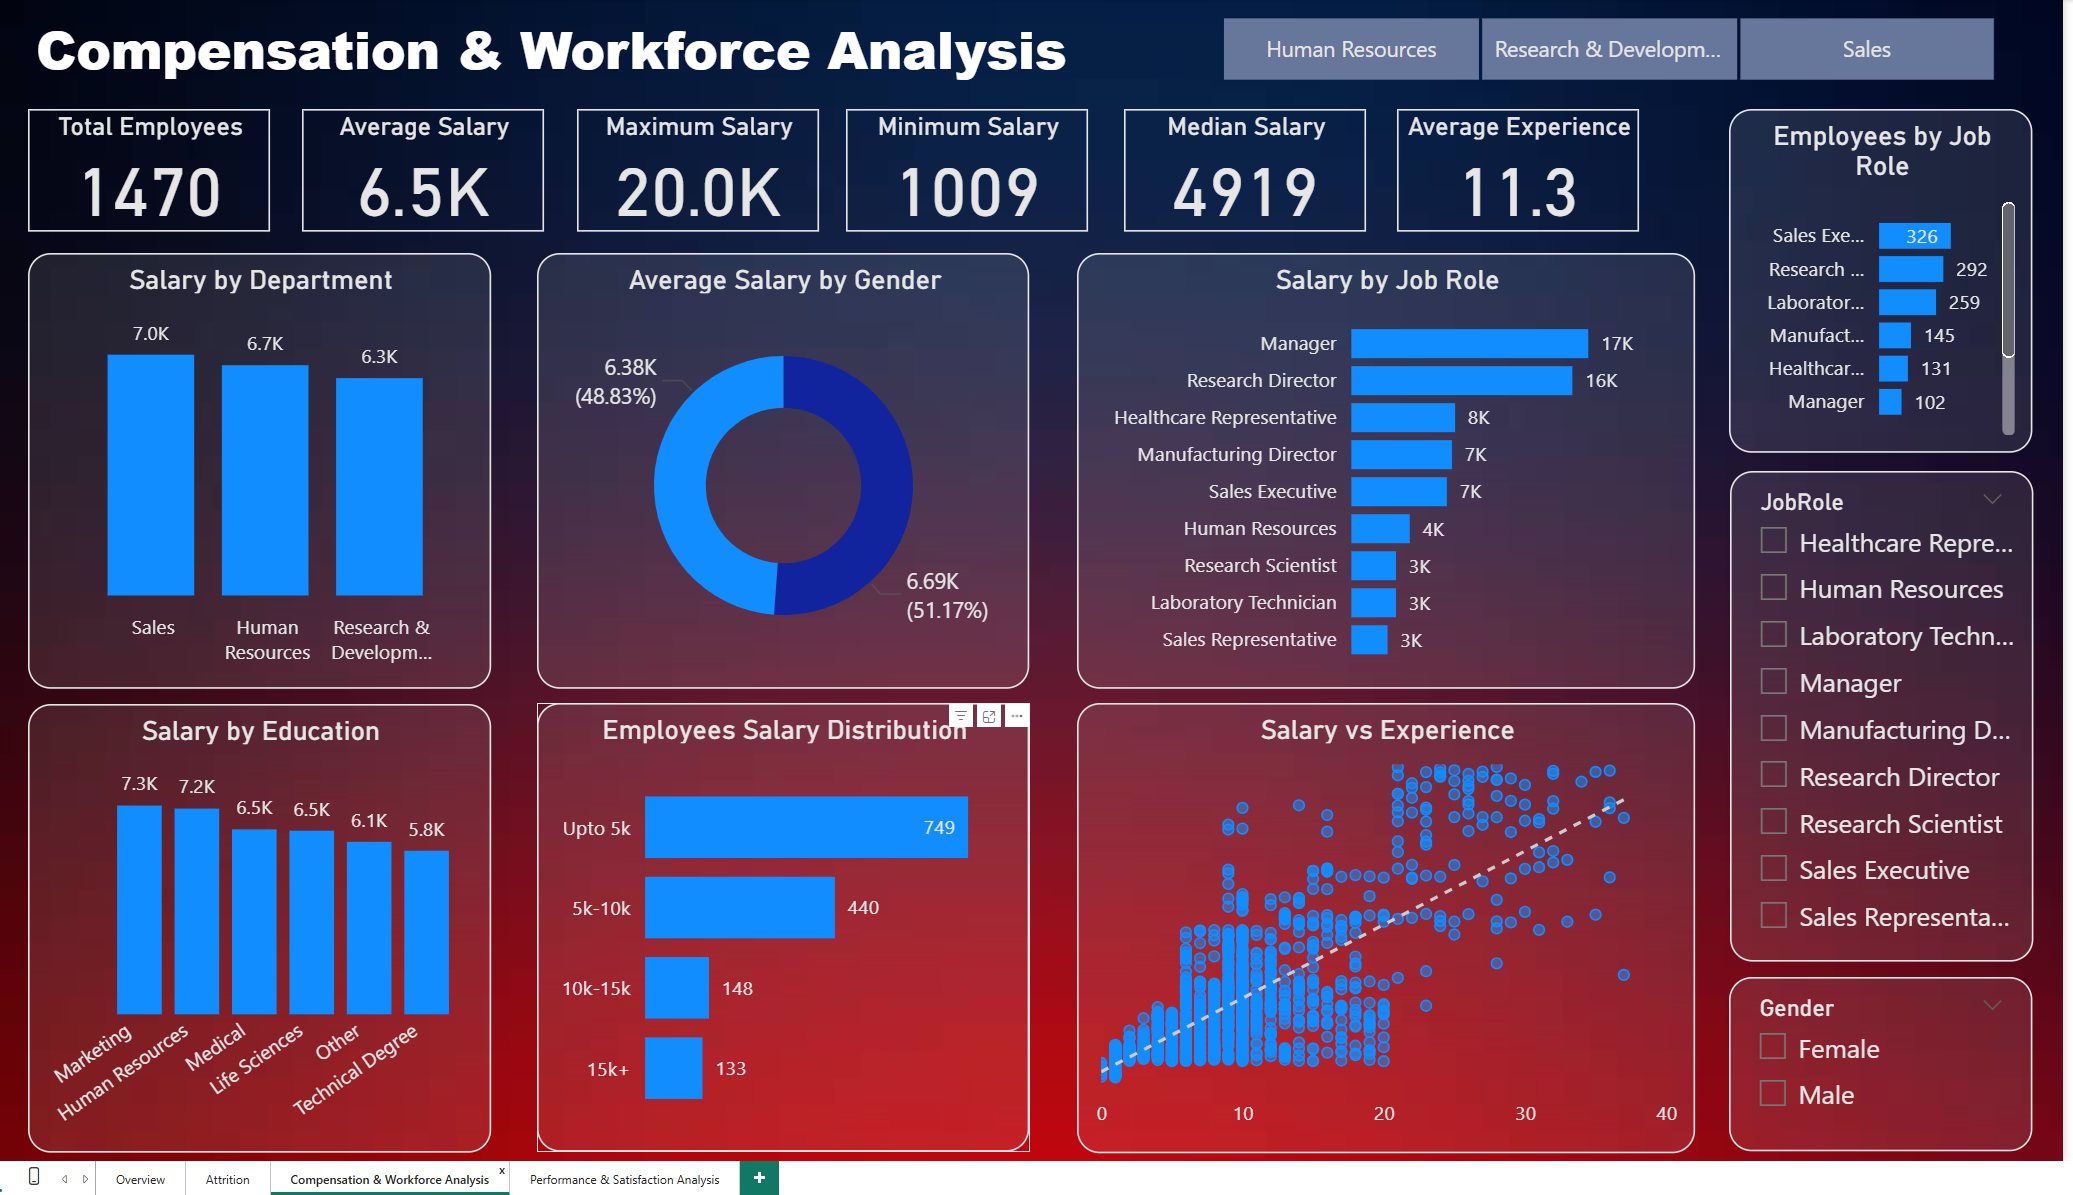

What the dashboard file says about the page in this screenshot:
{"tool":"powerbi","page":{"name":"Compensation & Workforce Analysis","canvas":[1280,720],"ordinal":2},"visuals":[{"type":"card","title":"Average Experience","fields":{"Values":["Avg(HR_Analytics.TotalWorkingYears)"]},"box":[867.6,68,149.9,75.7],"z":0},{"type":"card","title":"Median Salary","fields":{"Values":["Median(HR_Analytics.MonthlyIncome)"]},"box":[698,68,149.9,75.7],"z":1000},{"type":"columnChart","title":"Salary by Department","fields":{"Category":["HR_Analytics.Department"],"Y":["Avg(HR_Analytics.MonthlyIncome)"]},"box":[19.2,157.4,286.9,269.5],"z":2000},{"type":"donutChart","title":"Average Salary by Gender","fields":{"Category":["HR_Analytics.Gender"],"Y":["Avg(HR_Analytics.MonthlyIncome)"]},"box":[334.6,157.4,305.5,269.5],"z":3000},{"type":"clusteredBarChart","title":"Salary by Job Role","fields":{"Category":["HR_Analytics.JobRole"],"Y":["Avg(HR_Analytics.MonthlyIncome)"]},"box":[669.3,157.5,383.1,269.5],"z":4000},{"type":"card","title":"Total Employees","fields":{"Values":["CountNonNull(HR_Analytics.EmpID)"]},"box":[19.2,68.2,149.9,75.6],"z":5000},{"type":"columnChart","title":"Salary by Education","fields":{"Category":["HR_Analytics.EducationField"],"Y":["Avg(HR_Analytics.MonthlyIncome)"]},"box":[19.2,436.8,286.9,277.6],"z":6000},{"type":"clusteredBarChart","title":"Employees Salary Distribution","fields":{"Category":["HR_Analytics.SalarySlab"],"Y":["CountNonNull(HR_Analytics.EmpID)"]},"box":[334.6,436.2,305.5,278.2],"z":7000},{"type":"scatterChart","title":"Salary vs Experience","fields":{"X":["HR_Analytics.TotalWorkingYears"],"Y":["HR_Analytics.MonthlyIncome"]},"box":[669.3,436.1,383.1,278.6],"z":8000},{"type":"textbox","box":[19.2,3.1,656.8,58.9],"z":9000},{"type":"slicer","fields":{"Values":["HR_Analytics.Department"]},"box":[734.3,0,527.3,62],"z":10000},{"type":"slicer","fields":{"Values":["HR_Analytics.JobRole"]},"box":[1073.8,292.5,187.7,303.6],"z":11000},{"type":"slicer","fields":{"Values":["HR_Analytics.Gender"]},"box":[1073.2,606,188.4,108.4],"z":12000},{"type":"card","title":"Average Salary","fields":{"Values":["Avg(HR_Analytics.MonthlyIncome)"]},"box":[189,68.2,149.9,75.6],"z":13000},{"type":"card","title":"Maximum Salary","fields":{"Values":["Max(HR_Analytics.MonthlyIncome)"]},"box":[359.4,68.2,149.9,75.6],"z":14000},{"type":"card","title":"Minimum Salary","fields":{"Values":["Min(HR_Analytics.MonthlyIncome)"]},"box":[526.1,68.2,149.9,75.6],"z":15000},{"type":"clusteredBarChart","title":"Employees by Job Role","fields":{"Category":["HR_Analytics.JobRole"],"Y":["CountNonNull(HR_Analytics.EmpID)"]},"box":[1073.2,68.2,188.4,213.1],"z":16000}]}

Visuals, with their boxes on the page's 1280x720 design canvas (x1, y1, x2, y2). These are canvas units, not pixel positions in the 2073x1195 screenshot, which may show the page scaled, cropped or inside an application window:
"Average Experience" card: locate(868, 68, 1018, 144)
"Median Salary" card: locate(698, 68, 848, 144)
"Salary by Department" columnChart: locate(19, 157, 306, 427)
"Average Salary by Gender" donutChart: locate(335, 157, 640, 427)
"Salary by Job Role" clusteredBarChart: locate(669, 158, 1052, 427)
"Total Employees" card: locate(19, 68, 169, 144)
"Salary by Education" columnChart: locate(19, 437, 306, 714)
"Employees Salary Distribution" clusteredBarChart: locate(335, 436, 640, 714)
"Salary vs Experience" scatterChart: locate(669, 436, 1052, 715)
textbox: locate(19, 3, 676, 62)
slicer - HR_Analytics.Department: locate(734, 0, 1262, 62)
slicer - HR_Analytics.JobRole: locate(1074, 292, 1262, 596)
slicer - HR_Analytics.Gender: locate(1073, 606, 1262, 714)
"Average Salary" card: locate(189, 68, 339, 144)
"Maximum Salary" card: locate(359, 68, 509, 144)
"Minimum Salary" card: locate(526, 68, 676, 144)
"Employees by Job Role" clusteredBarChart: locate(1073, 68, 1262, 281)
